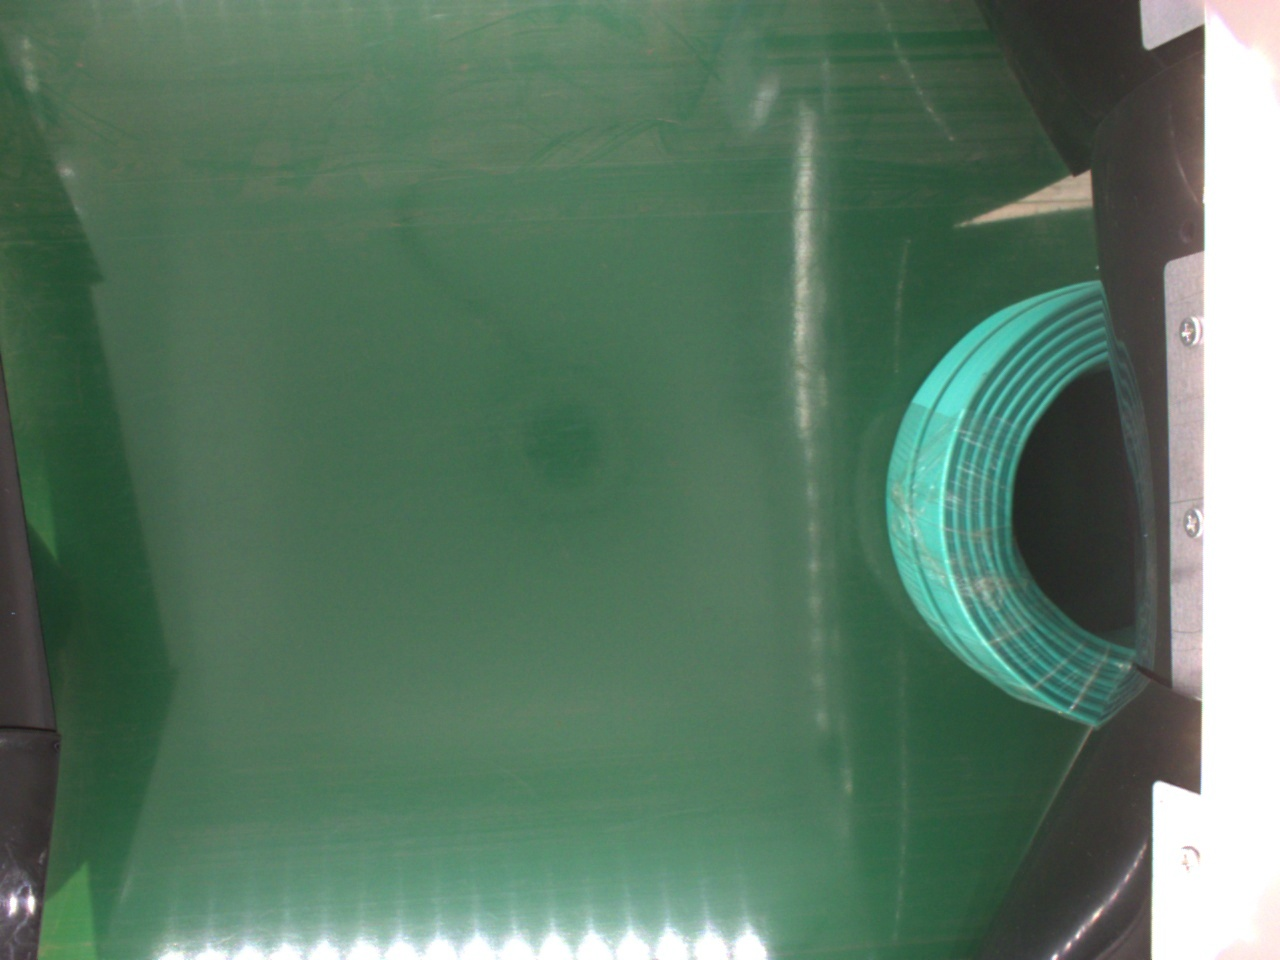green: (892, 292, 1139, 723)
